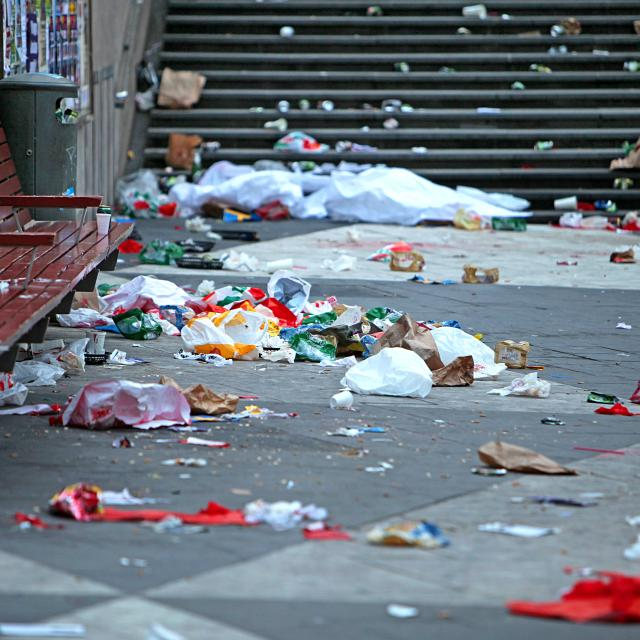garbage: (14, 81, 640, 640)
